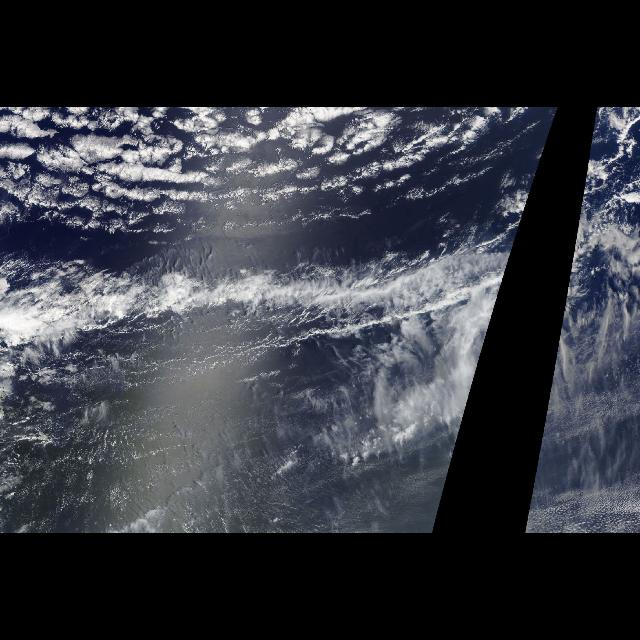Fish: (0, 226, 520, 366)
